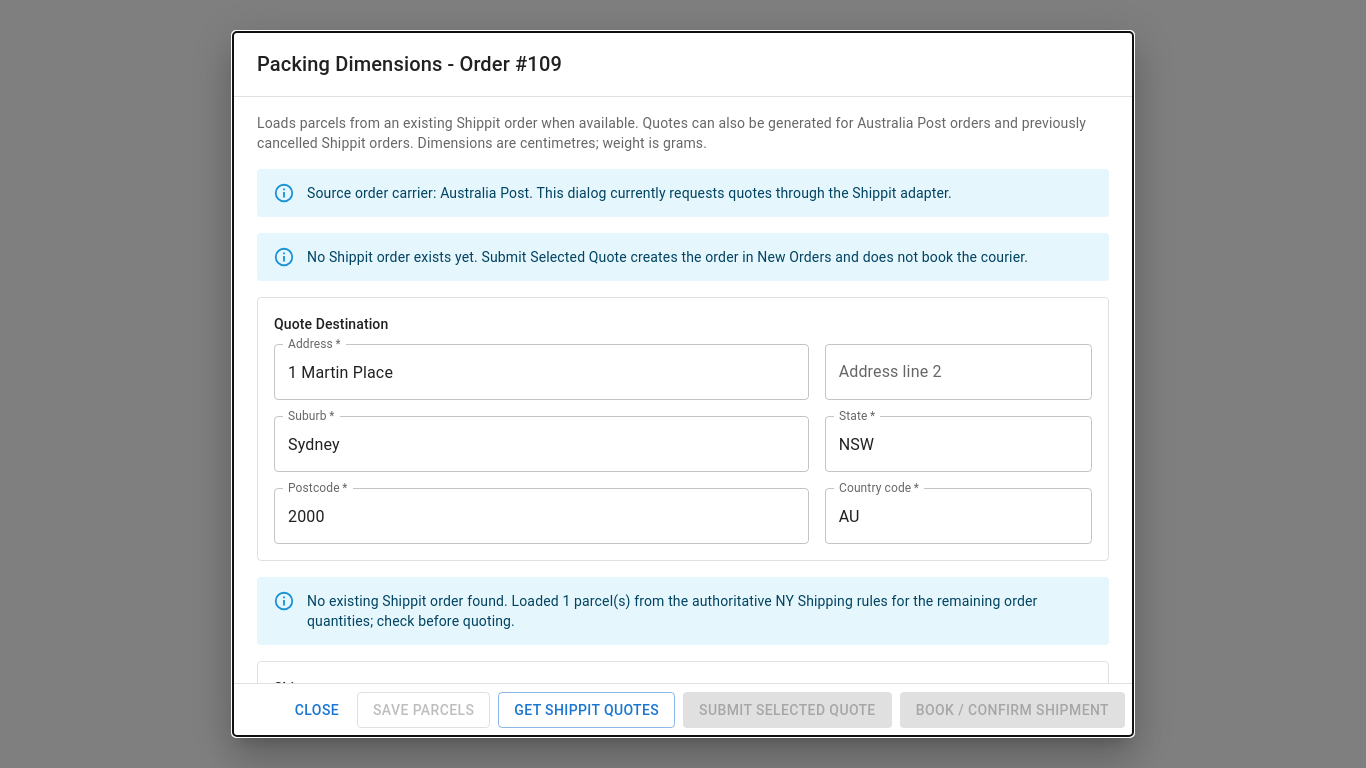
PackingDimensionsDialog › creates a Shippit order from a selected quote when none exists and does not book it
Expected: the button "Submit Selected Quote" is disabled, [683,692,892,728]
Click the button "Get Shippit Quotes" at (587, 710), box [498,692,675,728]
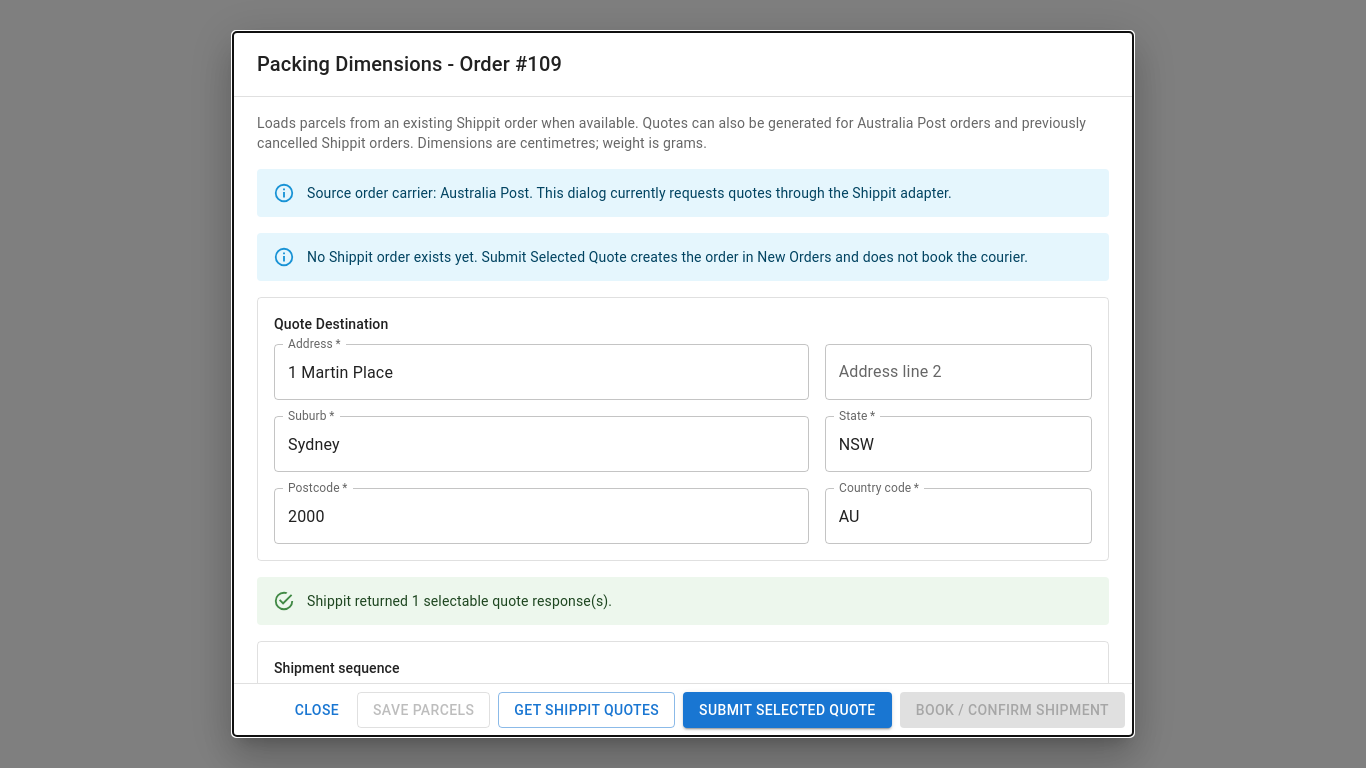
Expected: the button "Submit Selected Quote" is enabled
Click the button "Submit Selected Quote" at (787, 710), box [683,692,892,728]
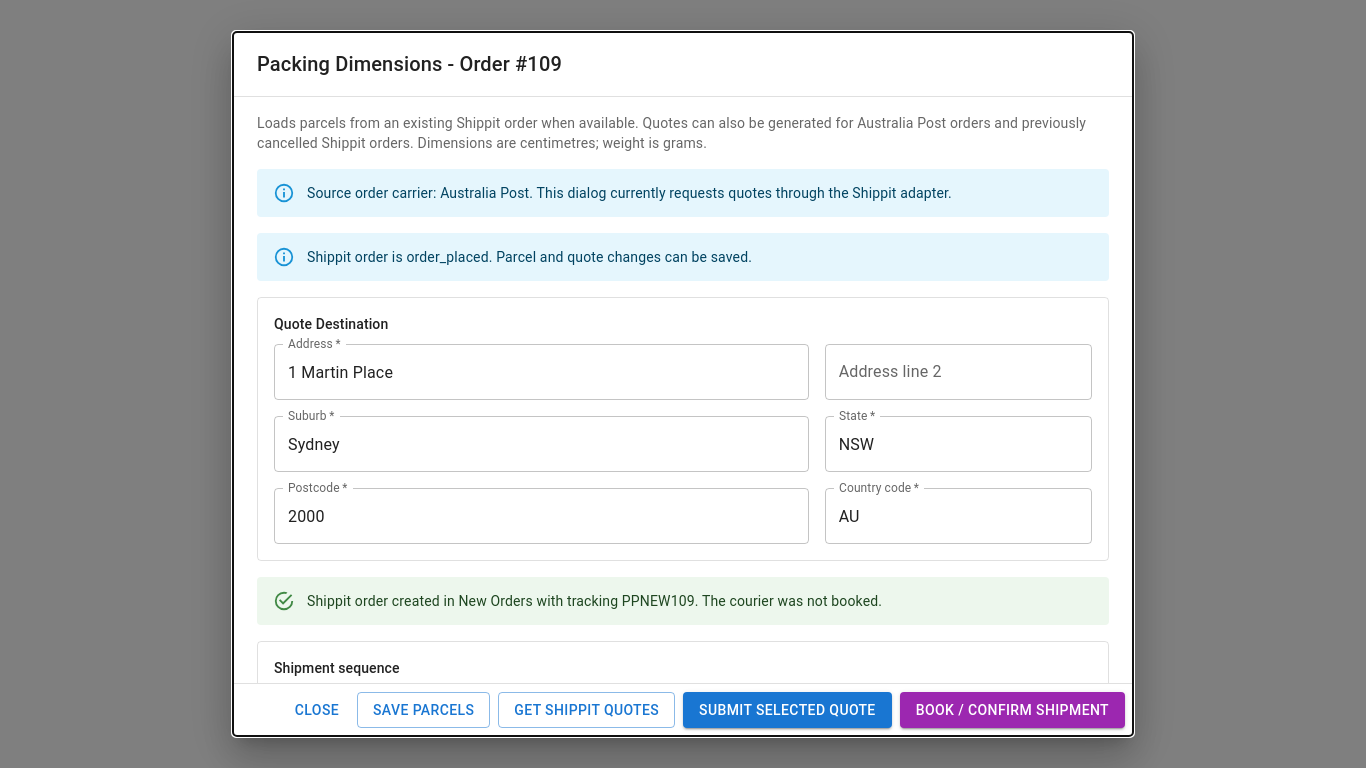
Expected: the text "The courier was not booked" is shown, [307,593,882,609]
